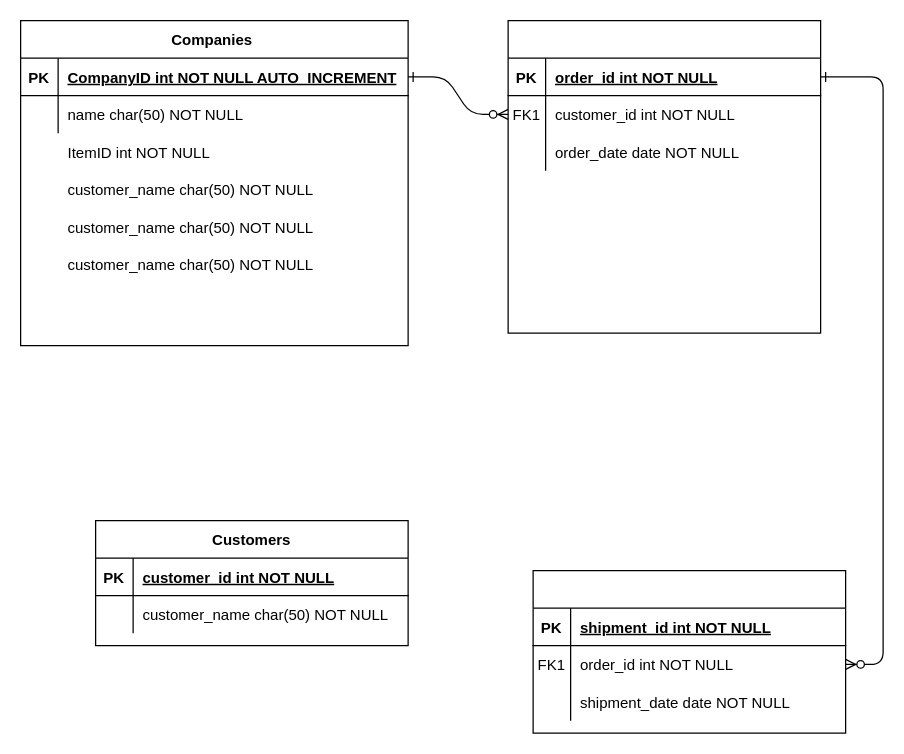
This 904x754 diagram has some shape labels left out. Here are the shapes that lost their labels. From the top down, the box of each, then its label:
(507, 19, 821, 333): Orders
(532, 569, 846, 733): Shipments
